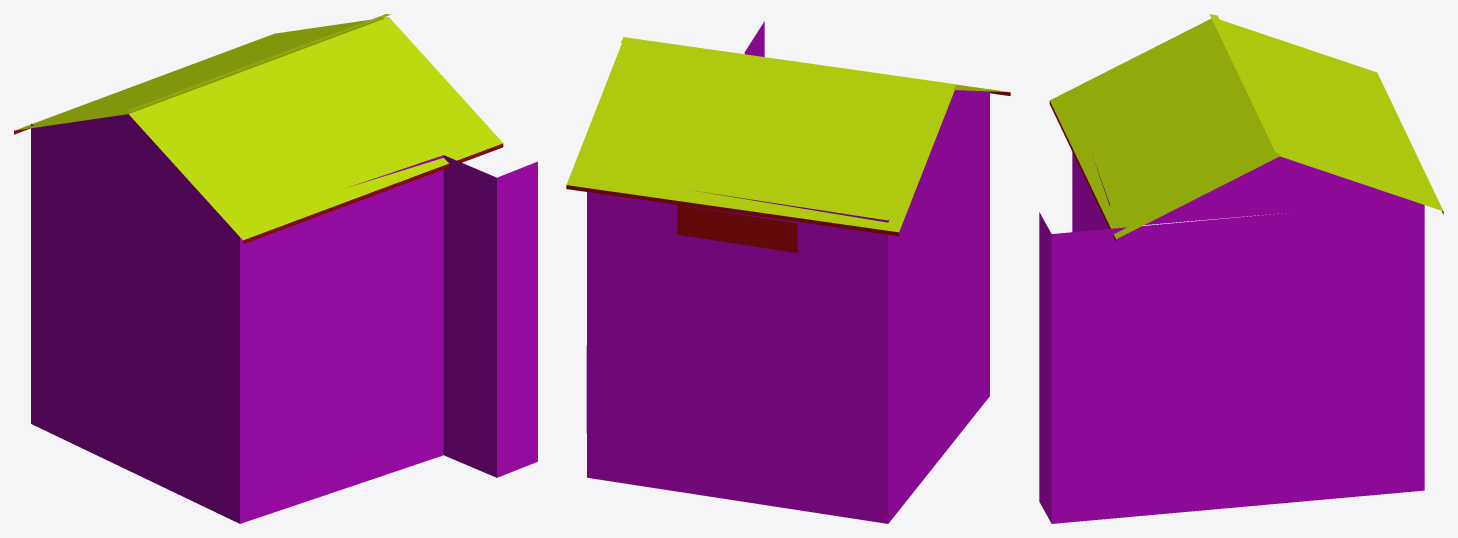
Rendered from scl_52.glb.
3 views of the same model, side by side, from view 1: azimuth 30°, elevation 25°; view 2: azimuth 150°, elevation 25°; view 3: azimuth 270°, elevation 25° (orthographic). The views are drawn at different scales.
Visible parts, largest first — view 1: scl_52; view 2: scl_52; view 3: scl_52.
Boxes of the visible parts, <box> form: scl_52: <box>14,14,537,523</box>; scl_52: <box>566,21,1010,523</box>; scl_52: <box>1039,14,1443,523</box>.
Bounding box in the file's own units: 11.35 × 11.28 × 11.58.
